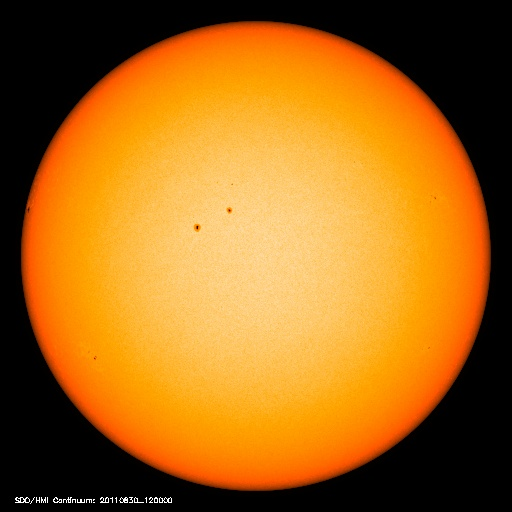sunspot: (186, 179, 241, 242), (76, 344, 115, 375), (14, 194, 42, 225)
